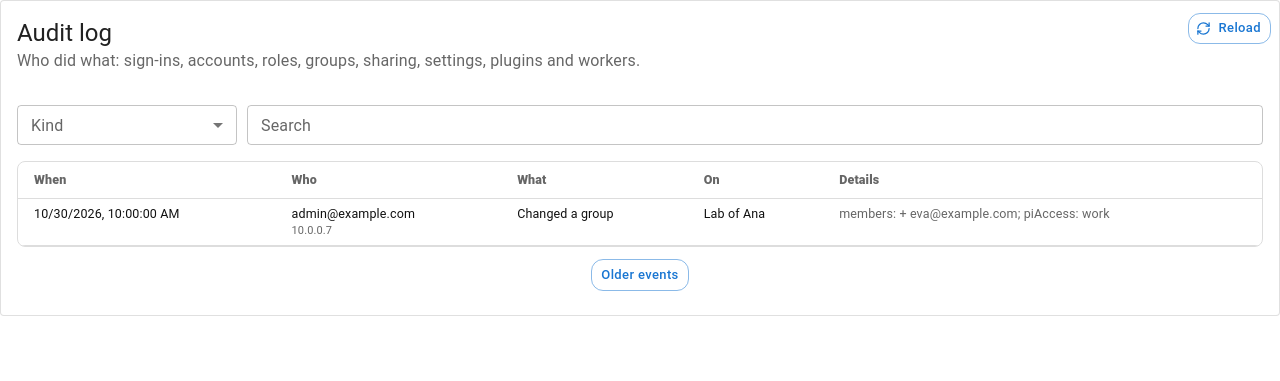
Test: AuditPanel › shows who did what, on what, with its details, and pages back to older events
Expected: the text "Changed a group" is shown, top-left (501, 198), bottom-right (688, 246)
Expected: the text "Lab of Ana" is shown, top-left (688, 198), bottom-right (823, 246)
Click the button "Older events".
click(640, 275)  # box top-left (591, 259), bottom-right (689, 291)
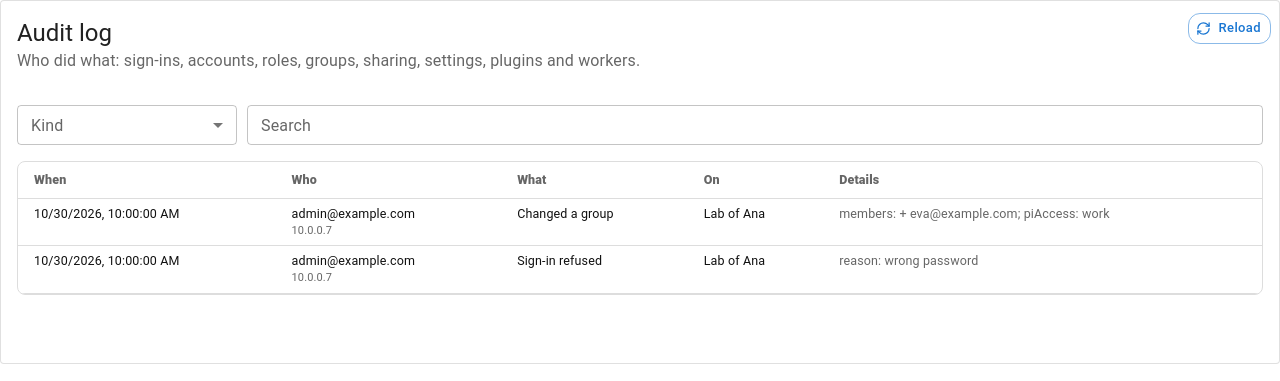
Expected: the text "Changed a group" is shown, top-left (501, 198), bottom-right (688, 246)
Expected: the text "Sign-in refused" is shown, top-left (501, 246), bottom-right (688, 293)
Expected: the button "Older events" is gone
